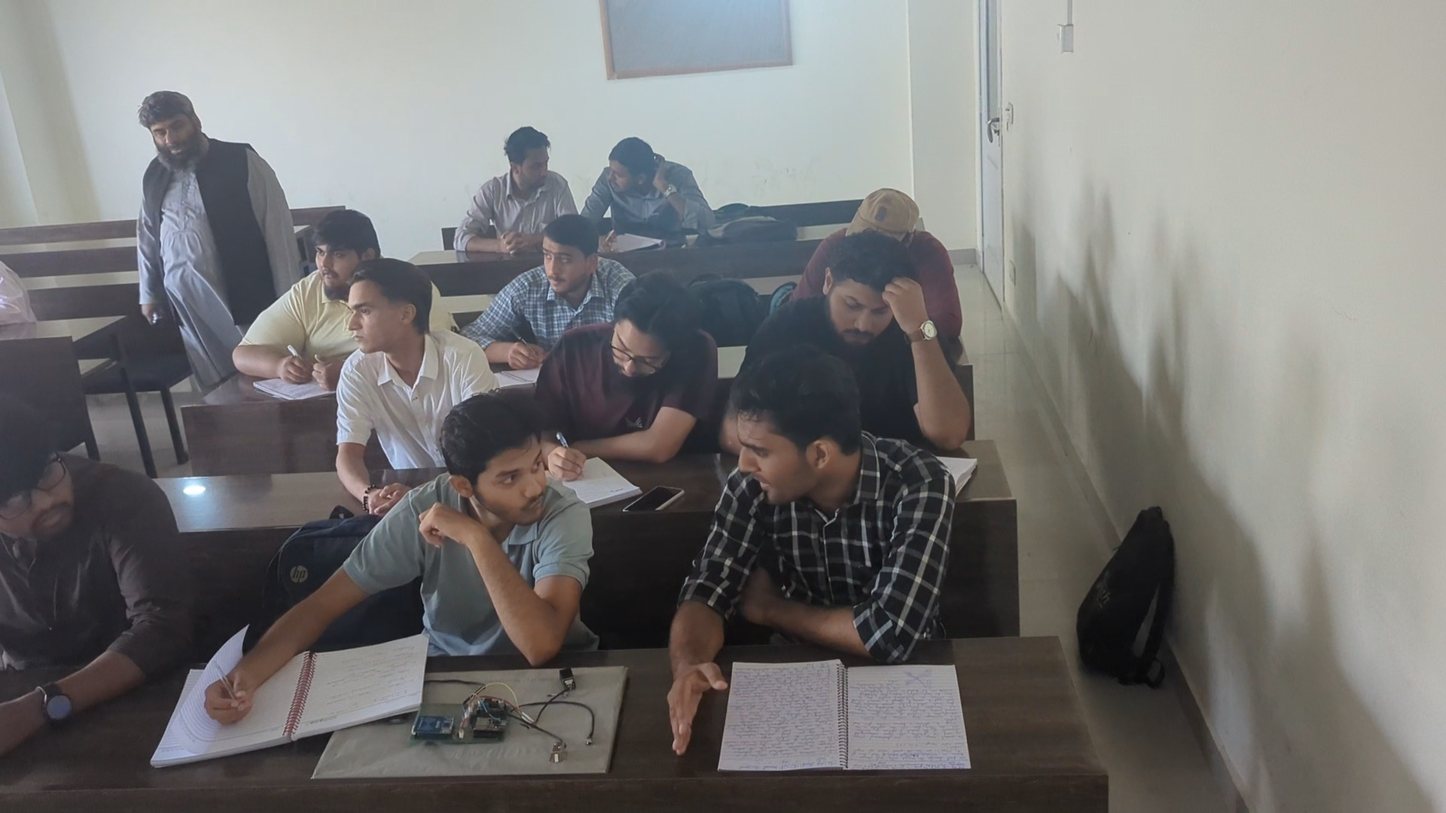look_forward: (306, 258, 474, 411), (515, 213, 602, 334), (301, 203, 372, 300)
read: (807, 236, 1008, 480)
stand: (108, 87, 272, 372)
turn_head: (704, 376, 987, 680), (2, 393, 256, 666), (386, 398, 584, 643), (604, 109, 724, 248), (491, 122, 585, 202)
write: (544, 278, 681, 498)
